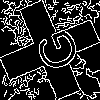G: (25, 25, 82, 79)
